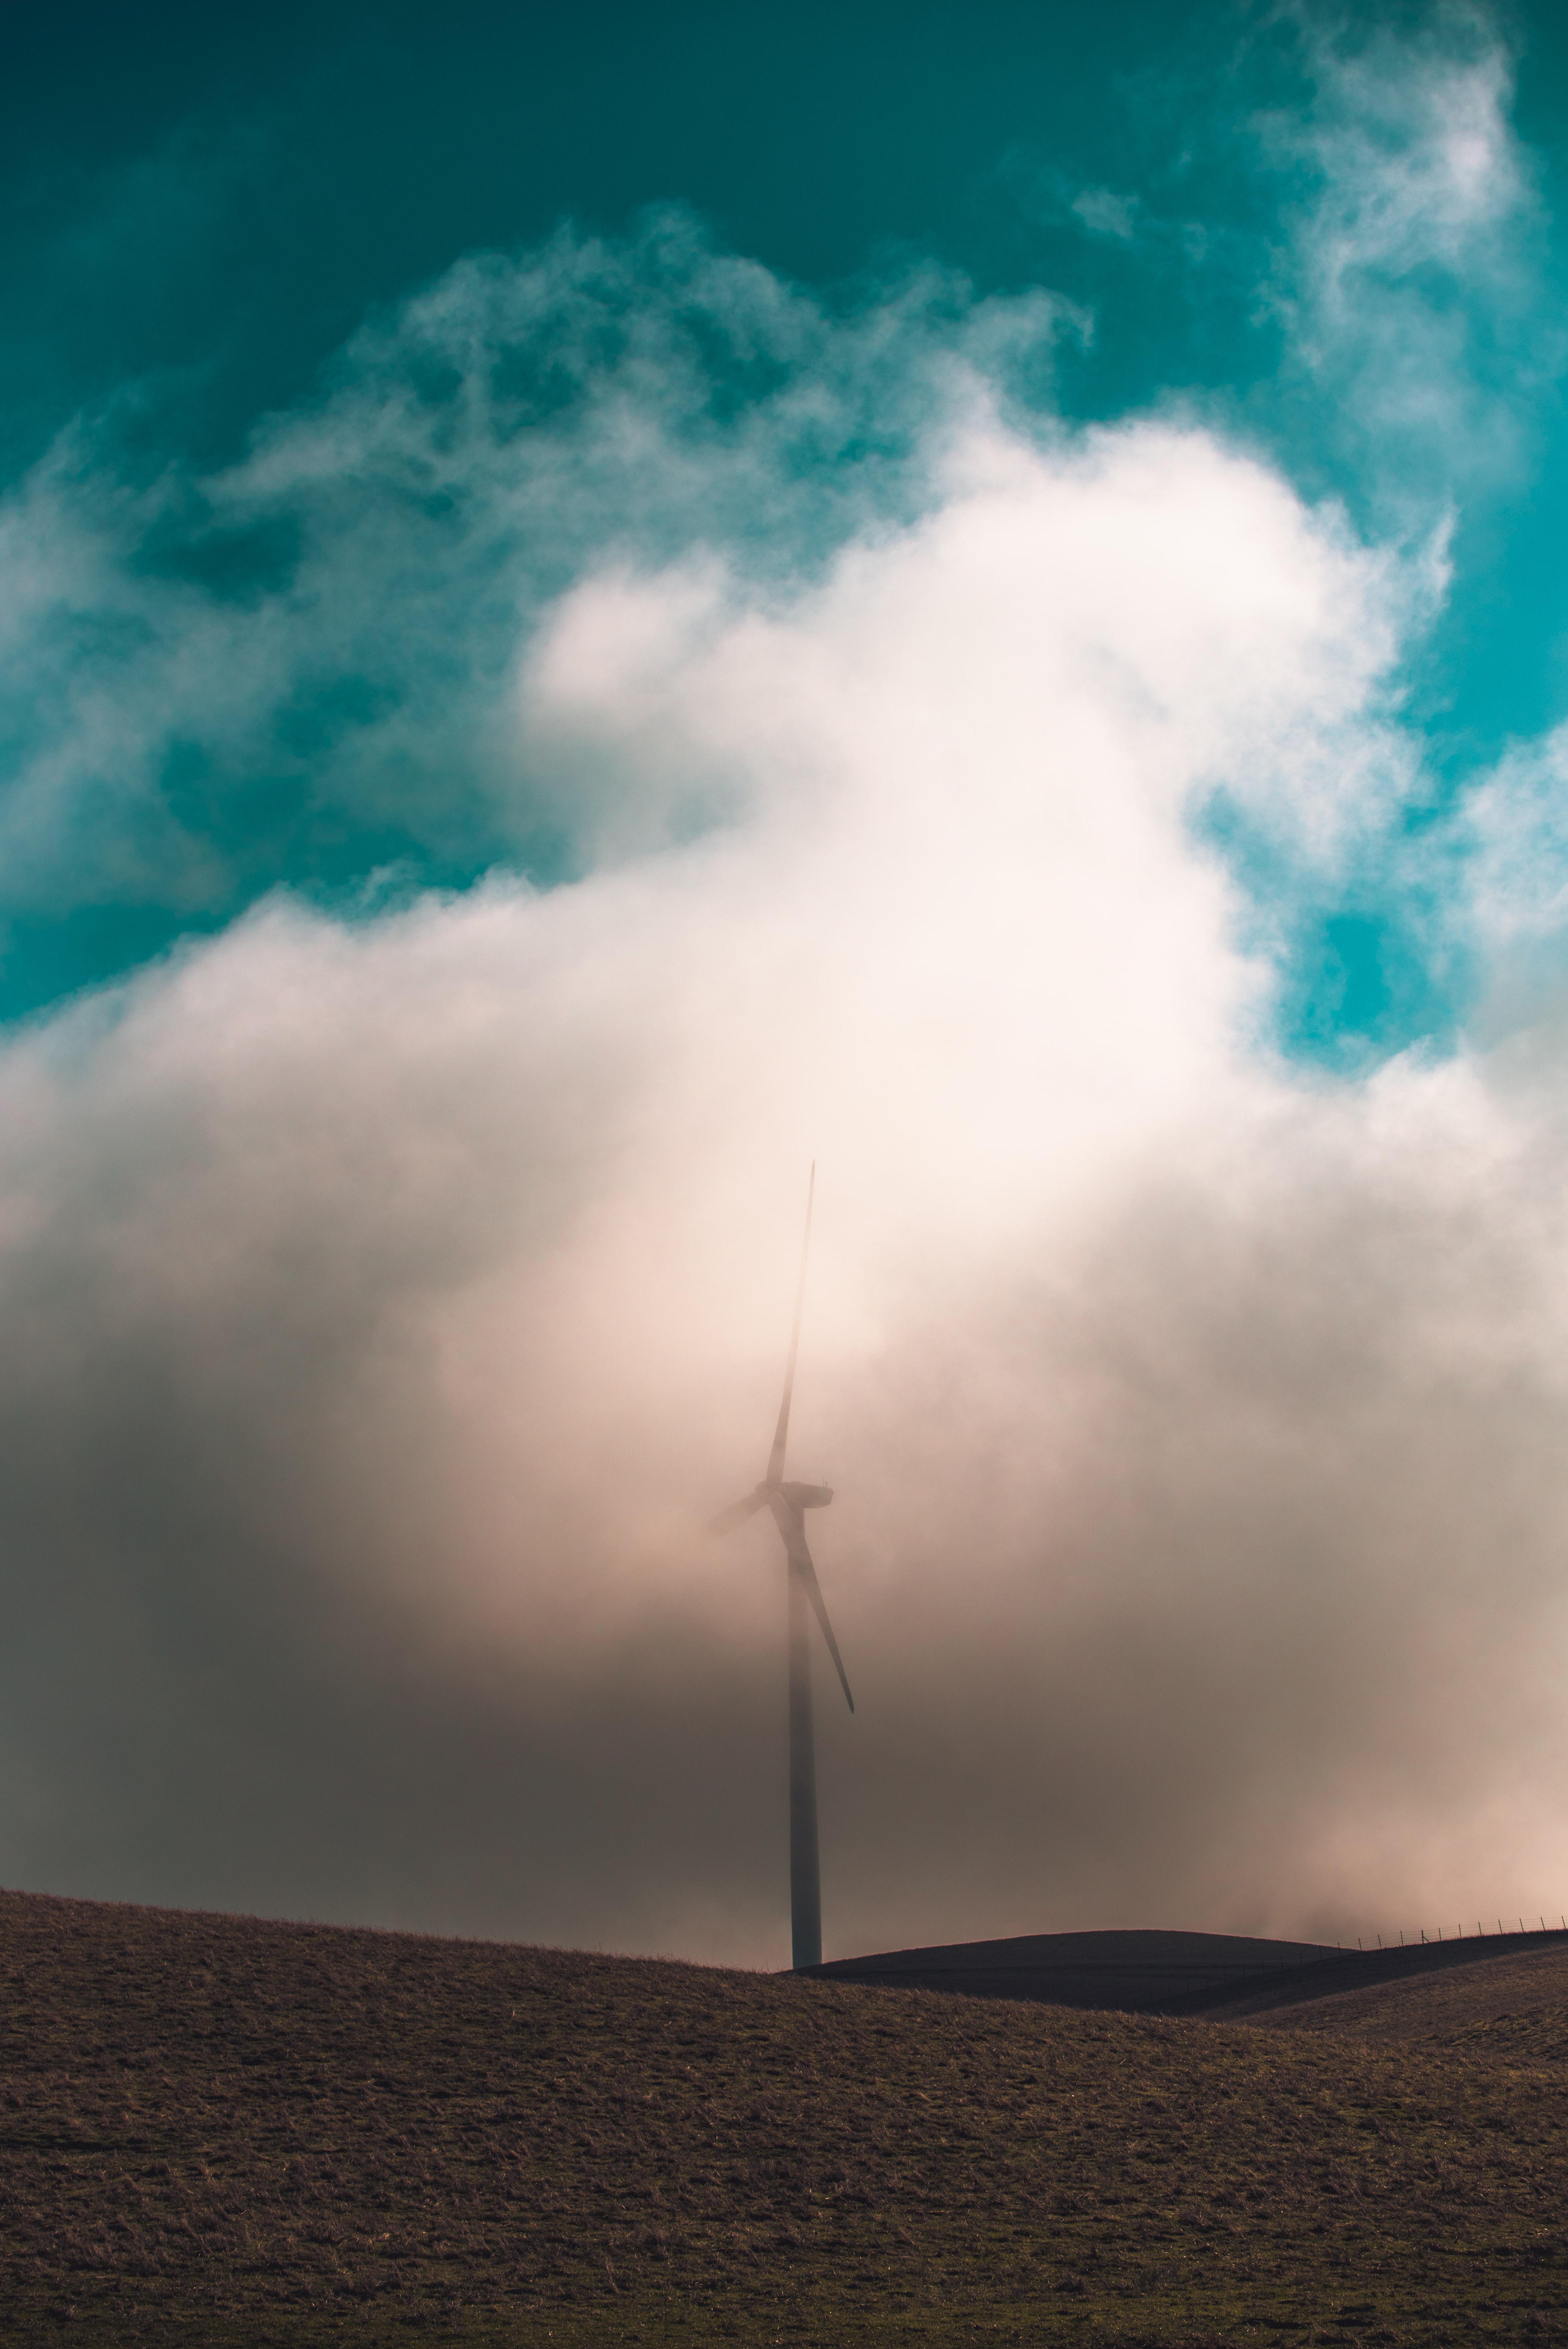working: (684, 1362, 863, 1701)
